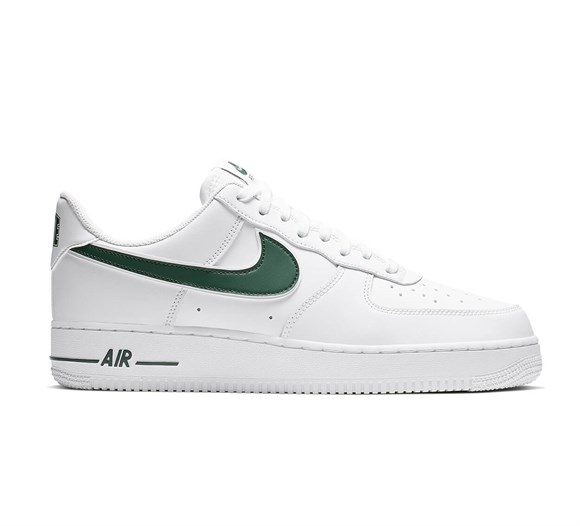nike: (63, 231, 305, 303)
